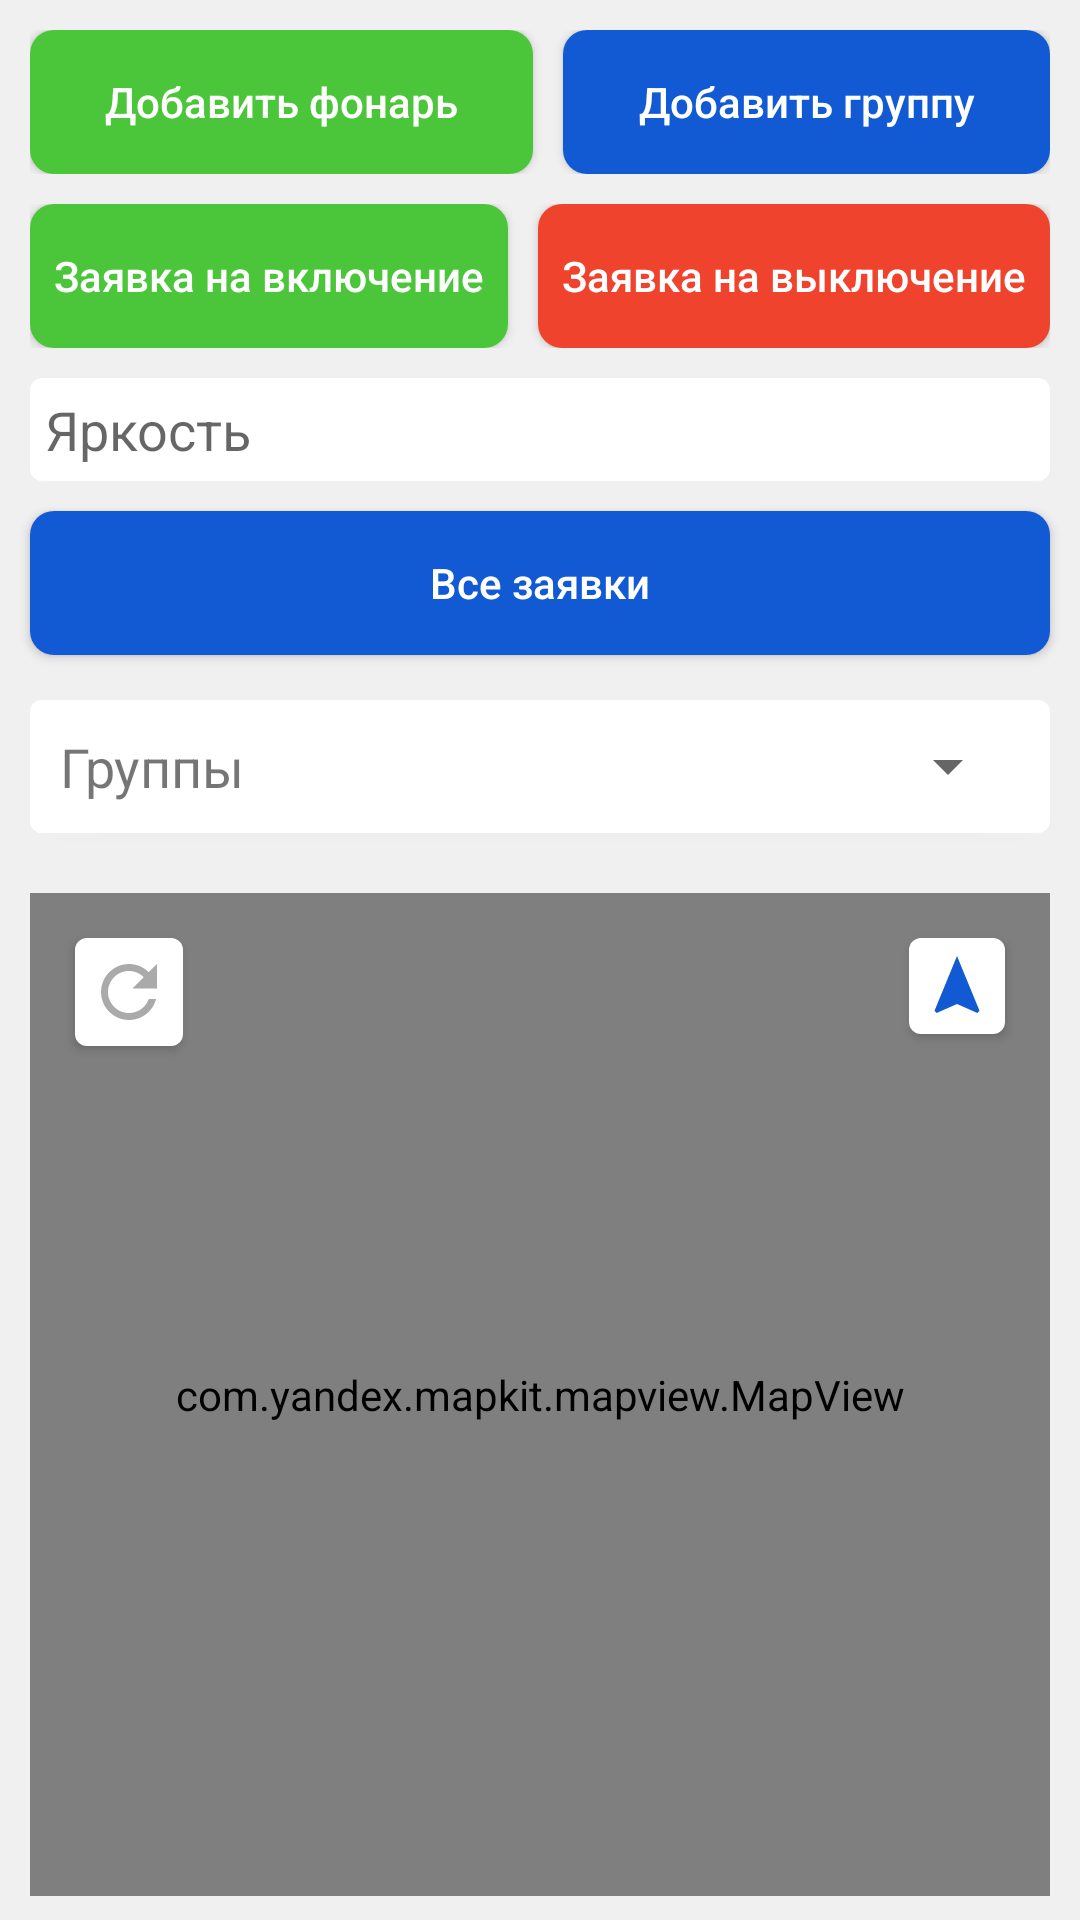

Icon click points for this 1080px x 1920px phone screenshot, format (x,y):
refresh map: (129,992)
user location: (957,986)
